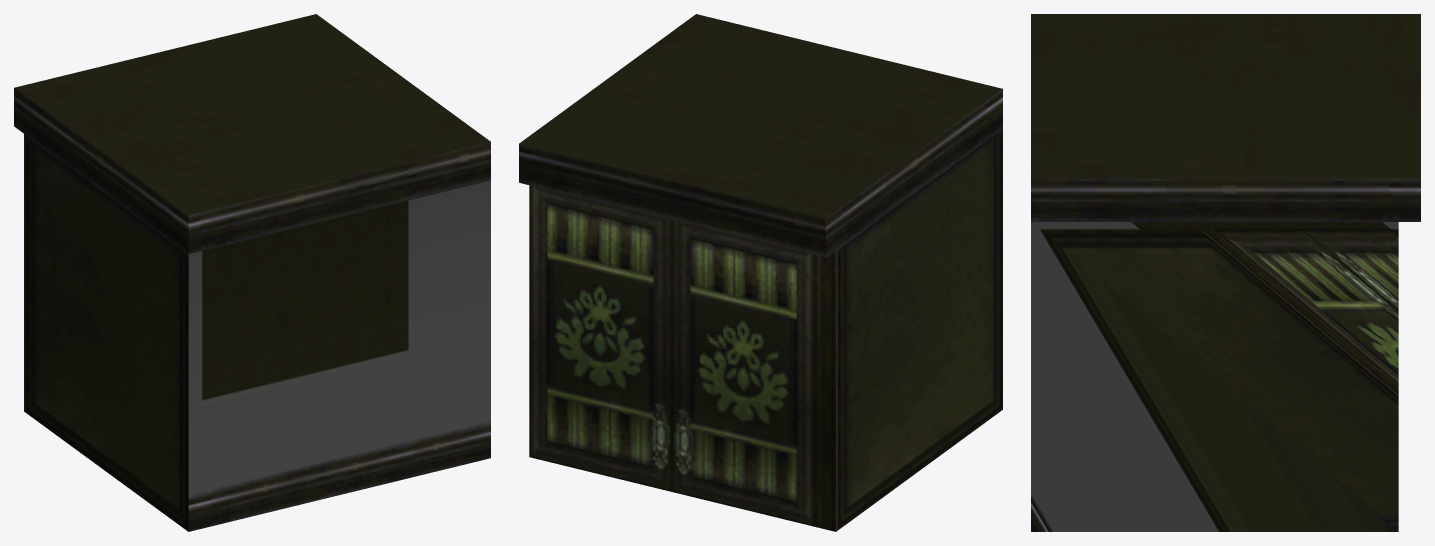
File: furni_0201222_03.FBX
3 renders of one model, left to right at view 1: azimuth 30°, elevation 25°; view 2: azimuth 150°, elevation 25°; view 3: azimuth 270°, elevation 25°, orthographic. The views are drawn at different scales.
Parts seen in each view (by area): view 1: furni_0201222_03; view 2: furni_0201222_03; view 3: furni_0201222_03.
Part boxes in pixels (x1,y1,x2,y2): furni_0201222_03: (14, 14, 490, 531); furni_0201222_03: (519, 14, 1002, 531); furni_0201222_03: (1031, 14, 1420, 531).
Size of the model in its own units: 80 by 80 by 80.
